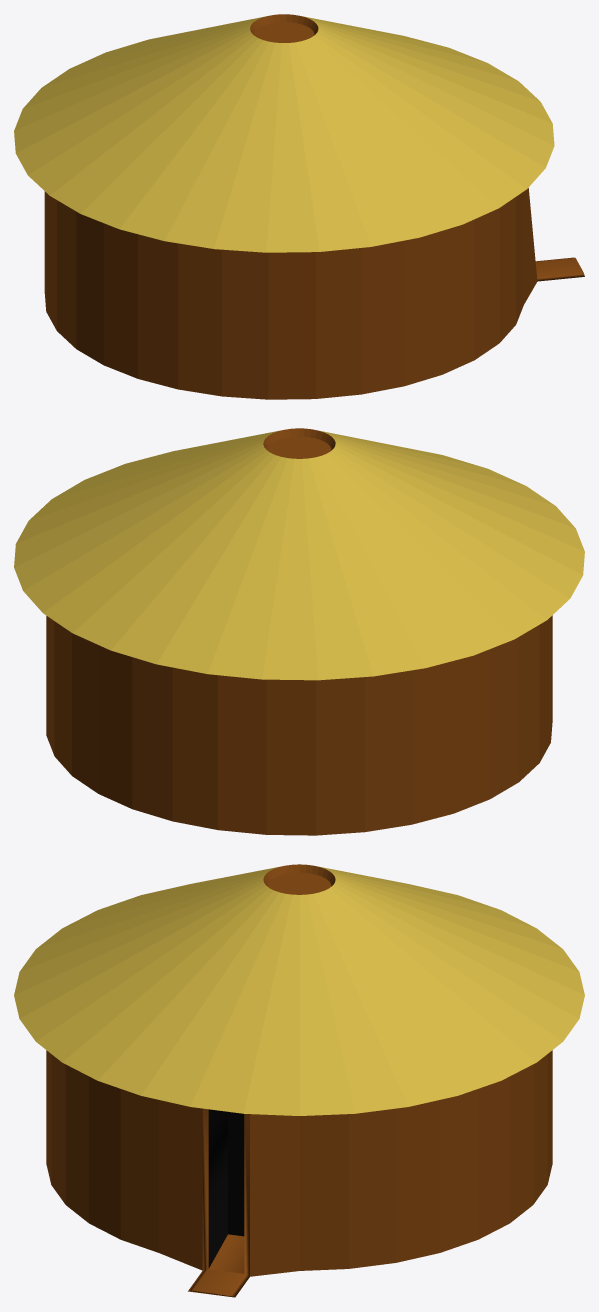
3 renders of one model, top to bottom at view 1: azimuth 30°, elevation 25°; view 2: azimuth 150°, elevation 25°; view 3: azimuth 270°, elevation 25°, orthographic. The views are drawn at different scales.
Visible parts, largest first — view 1: Cylinder; view 2: Cylinder; view 3: Cylinder.
Boxes of the visible parts, x1=… form: Cylinder: x1=14, y1=14, x2=584, y2=399; Cylinder: x1=14, y1=428, x2=584, y2=835; Cylinder: x1=14, y1=864, x2=584, y2=1297.
Size of the model in its own units: 665 by 347 by 631.
